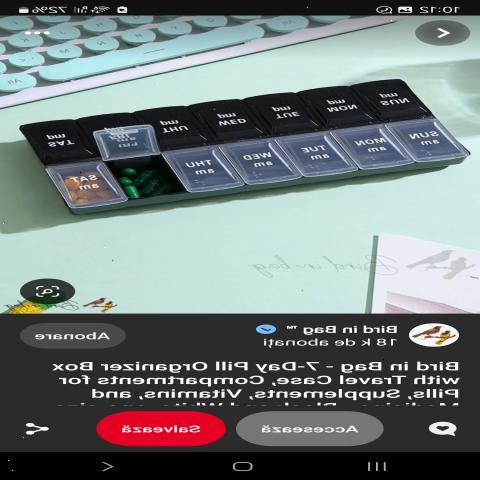PillBox: (10, 68, 469, 230)
